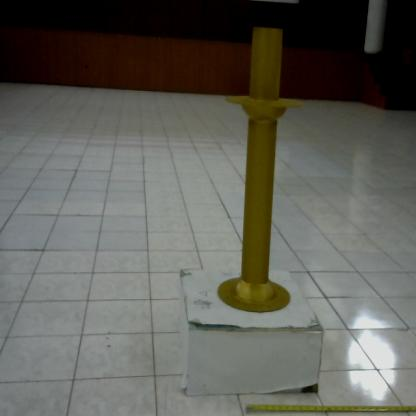pole: (209, 19, 306, 319)
